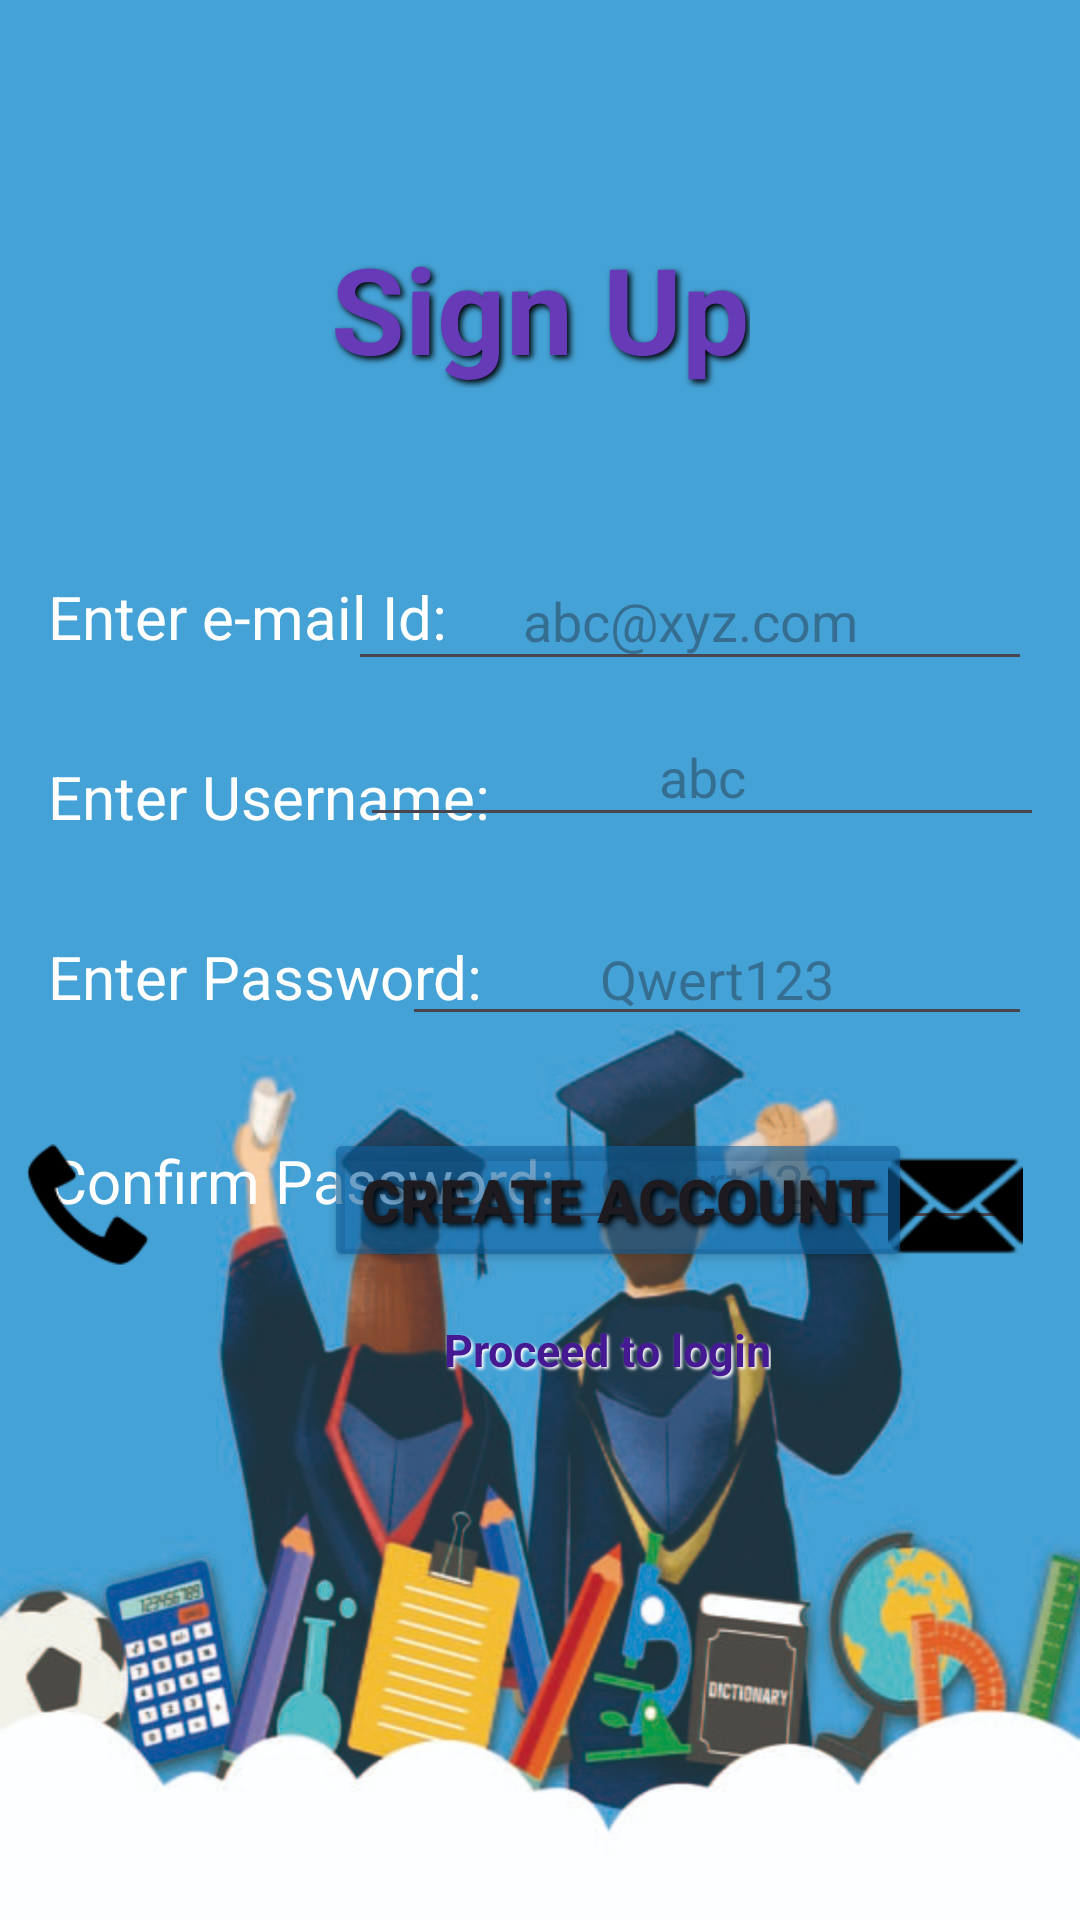

Where icons sit on this 1080px x 1920px app screen, as (x1, y1, x2, y2):
email: (879, 1146, 1023, 1272)
phone call: (28, 1144, 151, 1265)
